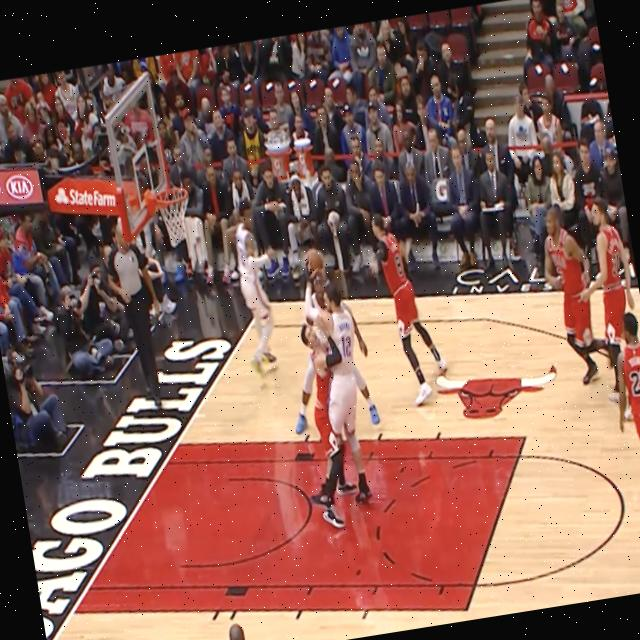foul: (266, 251, 380, 538)
no foul: (539, 198, 640, 408)
